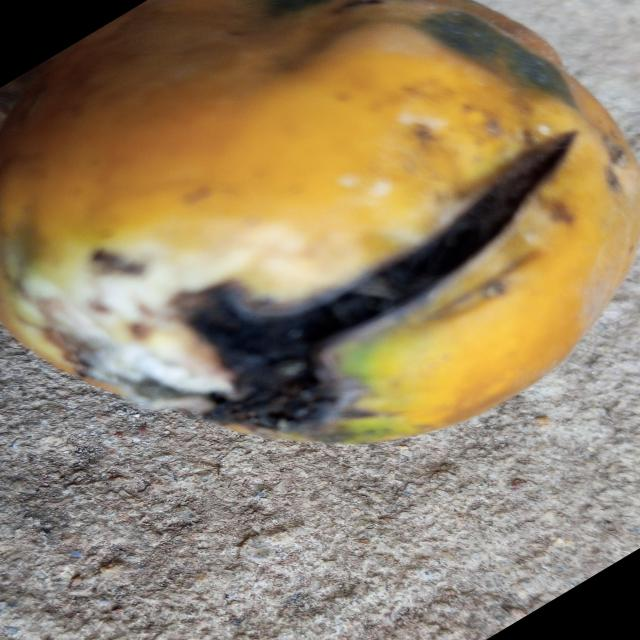damaged: (0, 0, 640, 446)
